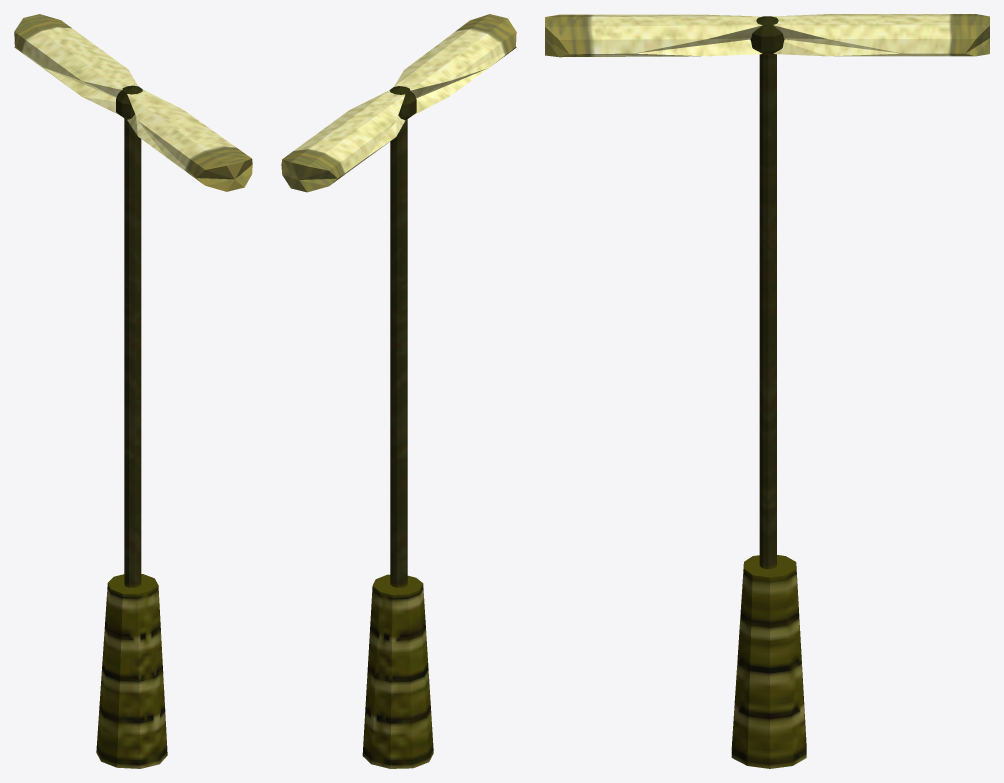
File: Rotator.glb
3 renders of one model, left to right at view 1: azimuth 30°, elevation 25°; view 2: azimuth 150°, elevation 25°; view 3: azimuth 270°, elevation 25°, orthographic. The views are drawn at different scales.
Visible parts, largest first — view 1: Rotator; view 2: Rotator; view 3: Rotator.
Boxes of the visible parts, left/top/right/bottom form: Rotator: left=14, top=14, right=252, bottom=768; Rotator: left=281, top=14, right=516, bottom=768; Rotator: left=545, top=14, right=989, bottom=768.
Size of the model in its own units: 20.15 by 208 by 114.
Materials: 1 (1 with a texture image).
